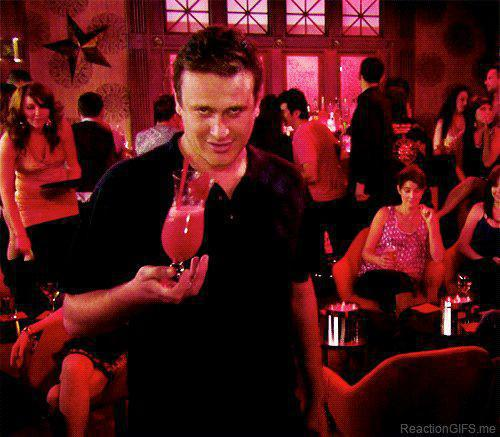Drunk: (179, 72, 253, 164)
